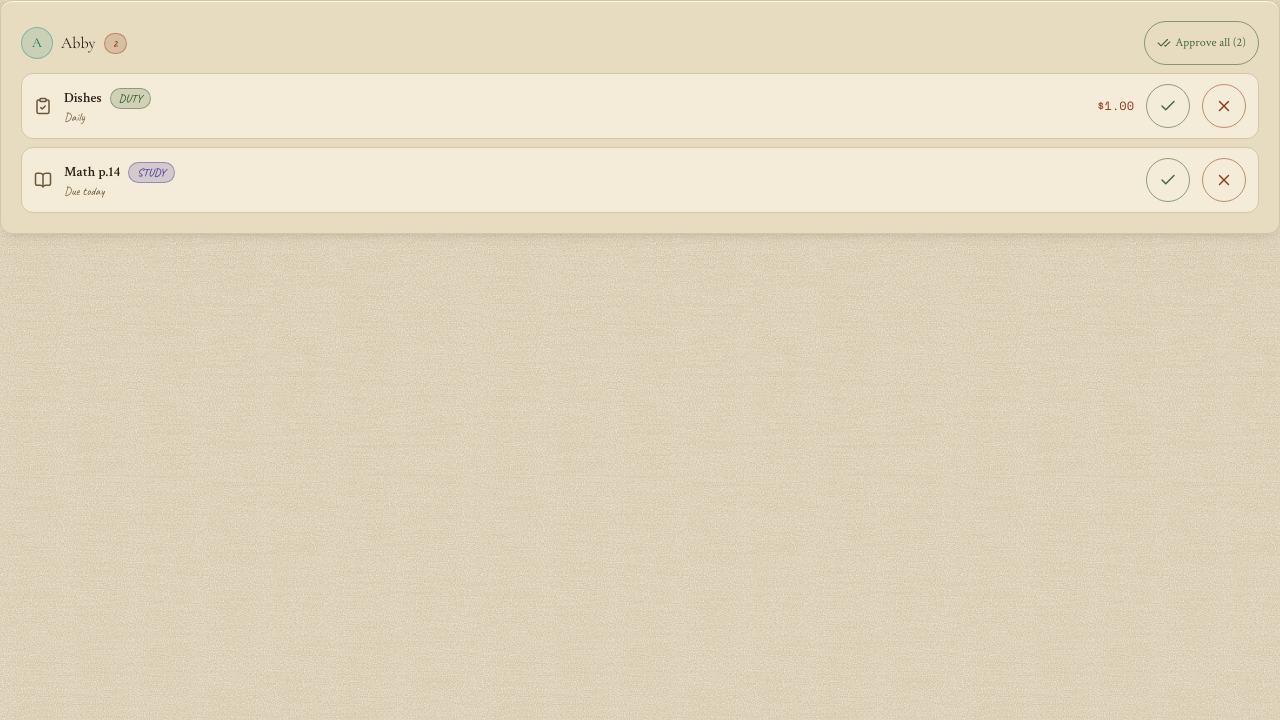
Test case: ApprovalQueueList › bulk approve leaves a failed row visible with an error chip
This screenshot has width=1280, height=720.
Step 1. Click the button with aria-label "approve all 2 from abby" → point(1202, 43), box [1144,21,1259,65]
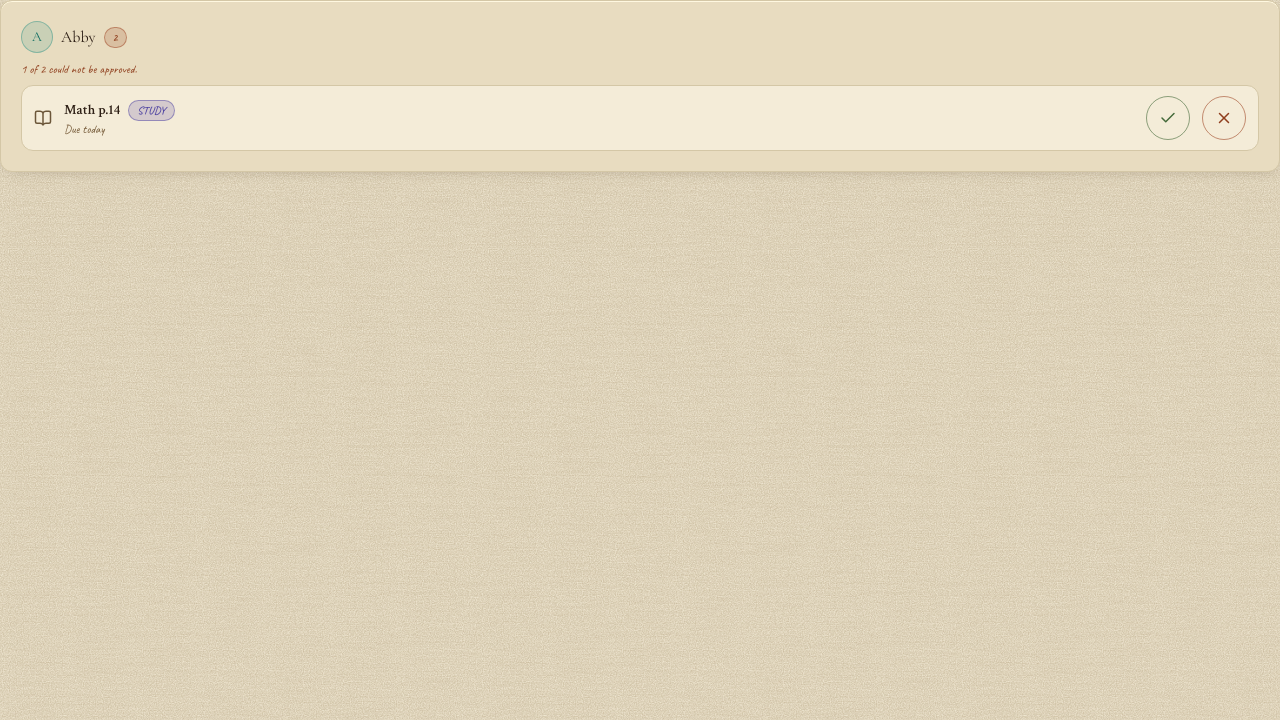
Expected: the text "Math p.14" is shown, [64,100,120,120]
Expected: the text "Dishes" is gone
Expected: the text "1 of 2 could not be approved." is shown, [21,61,137,77]
